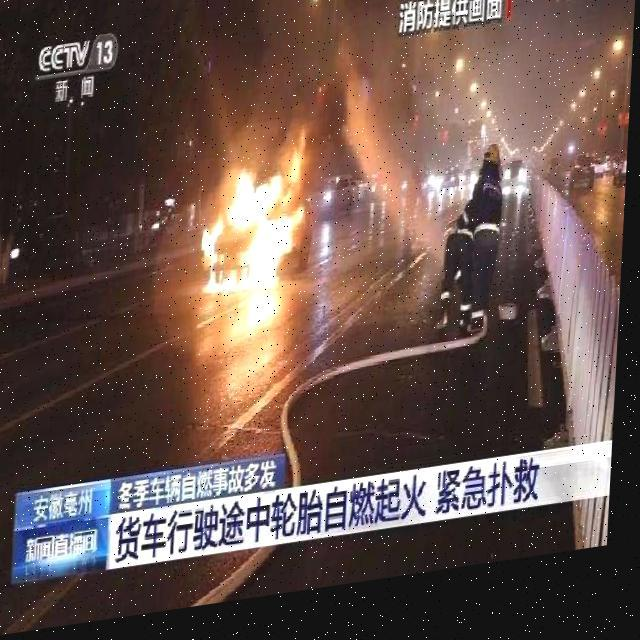Fire: (198, 138, 328, 314)
